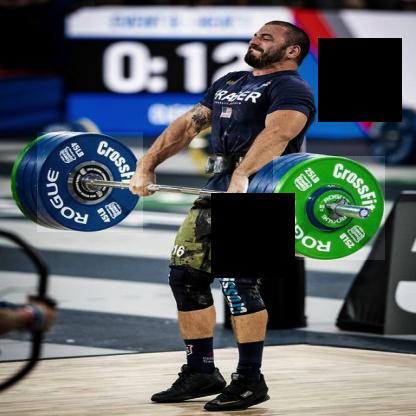barbell: (274, 157, 386, 261), (39, 133, 145, 233)
